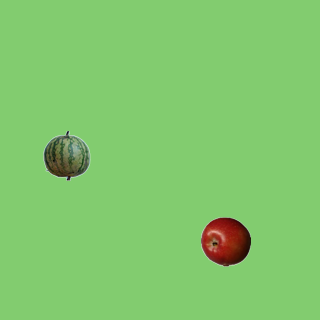Apple Braeburn: (200, 216, 250, 266)
Watermelon: (41, 130, 91, 180)
